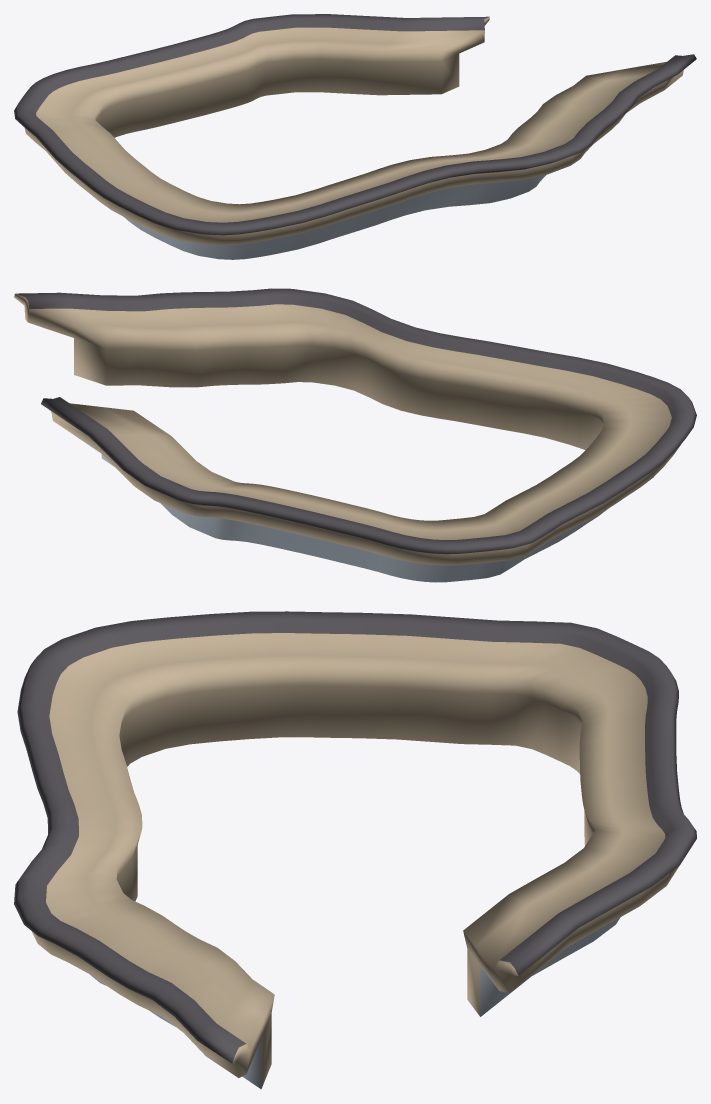
File: SM_SkyIsland_CoastBase.fbx
The picture shows the model from 3 angles, top to bottom: view 1: azimuth 30°, elevation 25°; view 2: azimuth 150°, elevation 25°; view 3: azimuth 270°, elevation 25°; orthographic projection. The views are drawn at different scales.
Parts seen in each view (by area): view 1: BezierCircle.007; view 2: BezierCircle.007; view 3: BezierCircle.007.
Part boxes in pixels (x1,y1,x2,y2): BezierCircle.007: (14, 14, 696, 259); BezierCircle.007: (14, 288, 696, 582); BezierCircle.007: (14, 611, 696, 1088).
Bounding box in the file's own units: 974 × 81.91 × 629.
